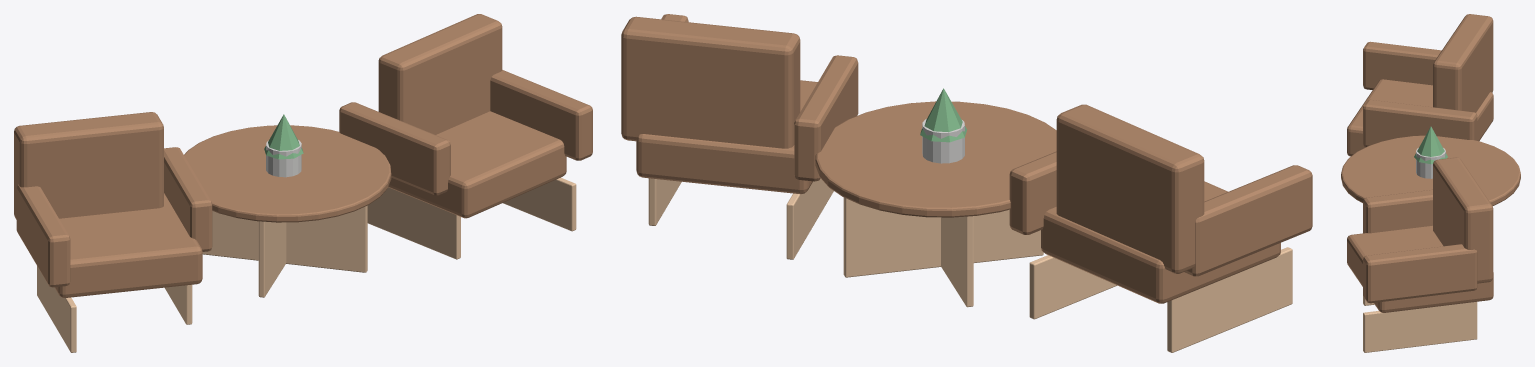
Rendered from office_lounge_seating_reference_board_46_iter_0.glb.
3 views of the same model, side by side, from view 1: azimuth 30°, elevation 25°; view 2: azimuth 150°, elevation 25°; view 3: azimuth 270°, elevation 25° (orthographic). The views are drawn at different scales.
Visible parts, largest first — view 1: Cylinder; view 2: Cylinder; view 3: Cylinder.
Part boxes in pixels (box(x1,y1,x2,y2)): Cylinder: box(14, 14, 592, 352); Cylinder: box(621, 14, 1312, 352); Cylinder: box(1341, 14, 1520, 352).
Bounding box in the file's own units: 2.45 × 0.72 × 0.84.
